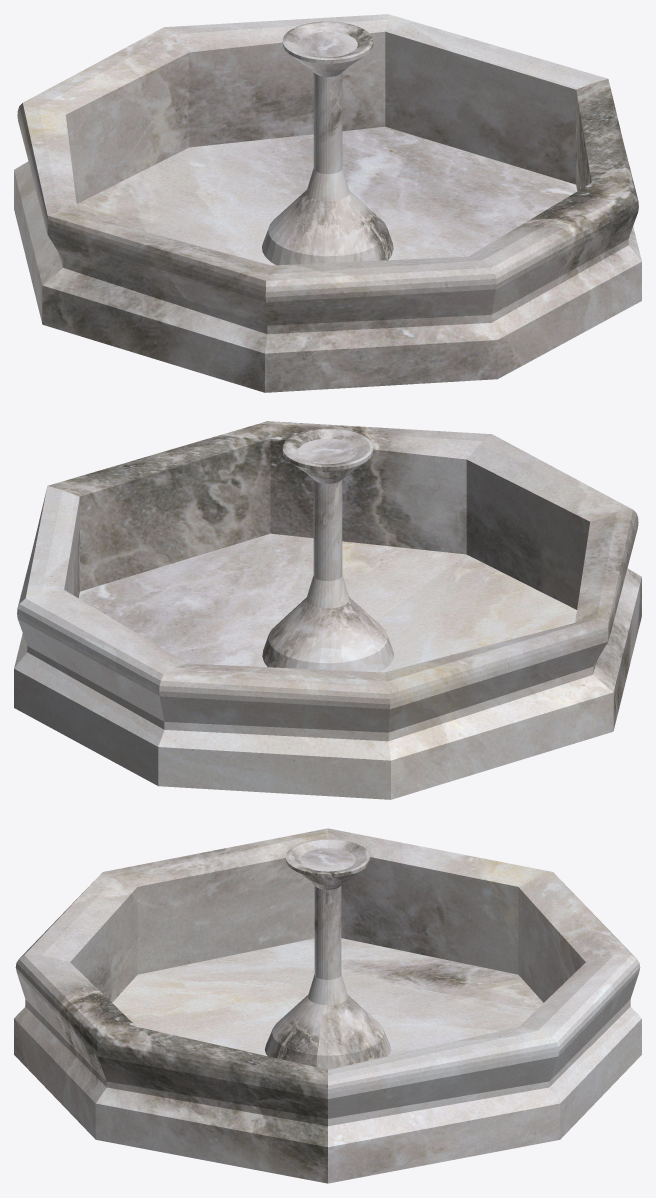
File: LowPolyWellfixed.fbx
3 renders of one model, top to bottom at view 1: azimuth 30°, elevation 25°; view 2: azimuth 150°, elevation 25°; view 3: azimuth 270°, elevation 25°, orthographic. The views are drawn at different scales.
Parts seen in each view (by area): view 1: fountain; view 2: fountain; view 3: fountain.
Boxes of the visible parts, <box> form: fountain: <box>14,14,641,392</box>; fountain: <box>14,421,641,799</box>; fountain: <box>14,828,641,1183</box>.
Size of the model in its own units: 277 by 99.3 by 285.
